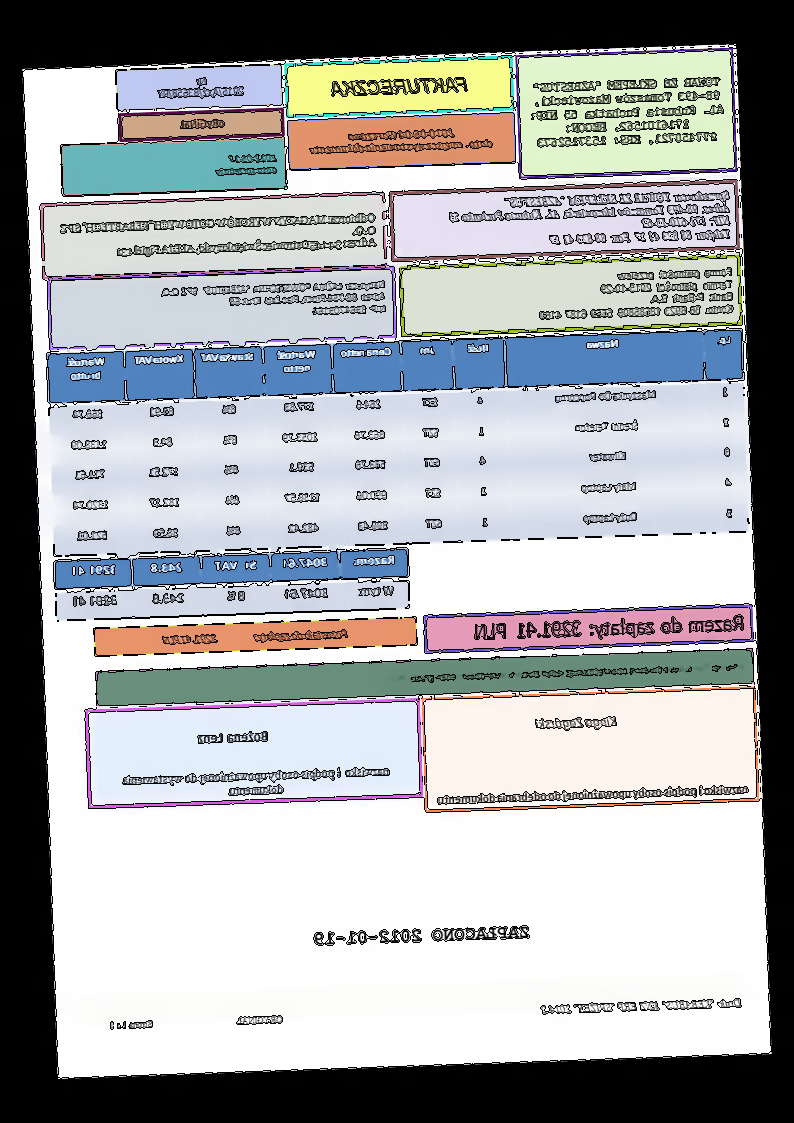Table: (46, 327, 750, 557), (54, 546, 411, 622)
TextBox: (447, 186, 732, 249), (59, 211, 379, 261), (529, 75, 727, 148), (535, 266, 735, 322), (159, 277, 389, 323), (122, 764, 391, 801), (385, 660, 747, 687), (438, 780, 751, 807), (473, 611, 745, 642), (306, 125, 495, 156), (313, 922, 531, 948), (538, 995, 744, 1017), (160, 626, 350, 649), (329, 73, 470, 99), (109, 1013, 284, 1032), (155, 73, 246, 100), (534, 712, 620, 733), (214, 151, 279, 177), (195, 728, 270, 746), (178, 116, 226, 131)
